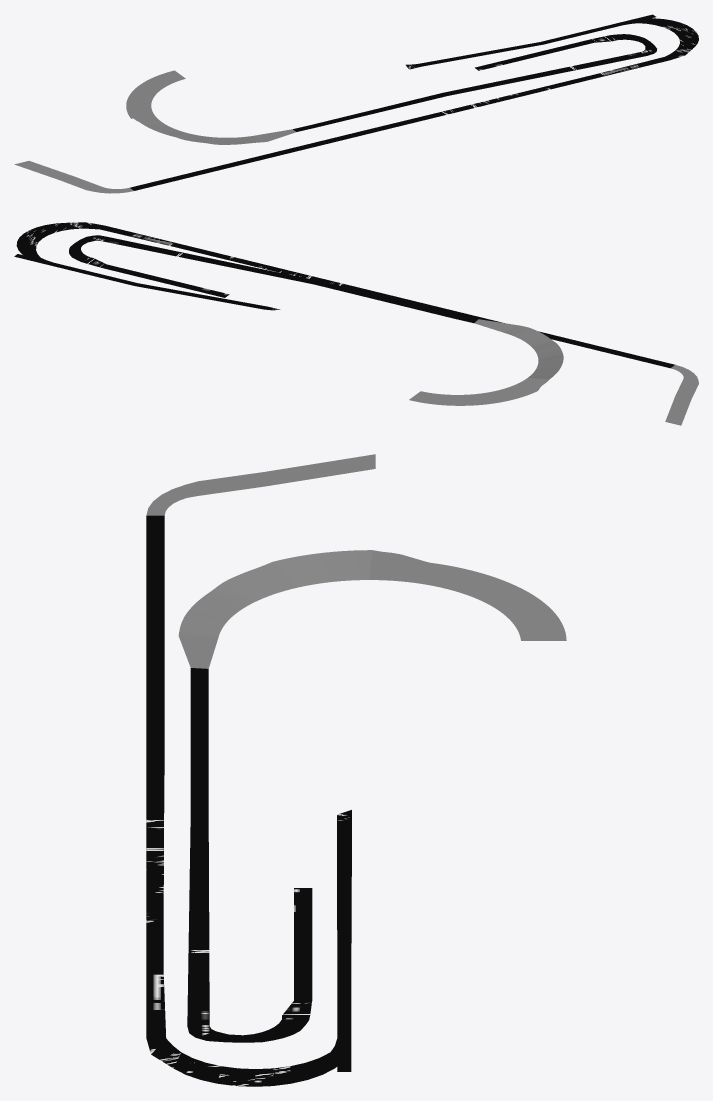
Rendered from mHistoricV3BetaOne.glb.
The picture shows the model from 3 angles, top to bottom: view 1: azimuth 30°, elevation 25°; view 2: azimuth 150°, elevation 25°; view 3: azimuth 270°, elevation 25°; orthographic projection. The views are drawn at different scales.
Visible parts, largest first — view 1: track; view 2: track; view 3: track.
Part boxes in pixels (x1,y1,x2,y2): track: [14, 14, 698, 193]; track: [14, 222, 698, 425]; track: [146, 454, 566, 1086].
Bounding box in the file's own units: 1379 × 26.17 × 387.
1 material, 1 textured.
